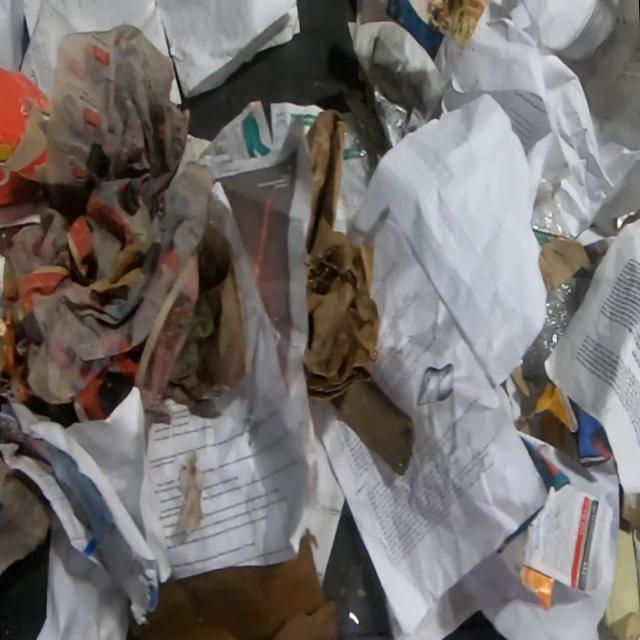cardboard: (127, 527, 339, 639), (0, 65, 52, 231), (334, 382, 416, 478), (0, 449, 54, 579), (514, 382, 581, 465), (538, 237, 594, 302), (620, 488, 640, 545), (510, 362, 532, 398)
rigid_plastic: (338, 566, 364, 639)
soft_plastic: (206, 206, 287, 434), (520, 273, 592, 383), (336, 113, 378, 220), (530, 176, 576, 241), (614, 205, 640, 234)
